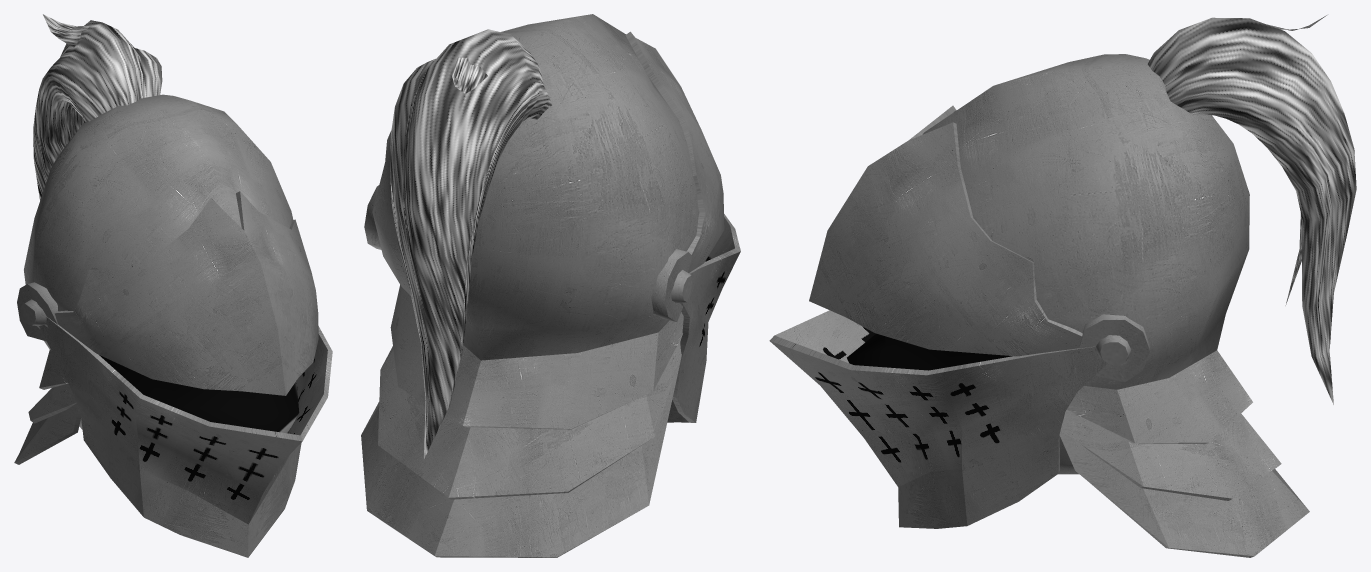
The model's file is kita_skoczka.glb.
The picture shows the model from 3 angles, left to right: view 1: azimuth 30°, elevation 25°; view 2: azimuth 150°, elevation 25°; view 3: azimuth 270°, elevation 25°; orthographic projection. The views are drawn at different scales.
Parts seen in each view (by area): view 1: base_head_helmet_aldebaran_0, face-shield-high_helmet_aldebaran_0, face-shield-low_helmet_aldebaran_0, plume_helmet_aldebaran_0, neck_guard_3_helmet_aldebaran_0, hinge_helmet_aldebaran_0, neck_guard_2_helmet_aldebaran_0, neck_guard_1_helmet_aldebaran_0; view 2: base_head_helmet_aldebaran_0, plume_helmet_aldebaran_0, neck_guard_3_helmet_aldebaran_0, neck_guard_2_helmet_aldebaran_0, neck_guard_1_helmet_aldebaran_0, face-shield-low_helmet_aldebaran_0, face-shield-high_helmet_aldebaran_0, hinge_helmet_aldebaran_0; view 3: base_head_helmet_aldebaran_0, face-shield-low_helmet_aldebaran_0, face-shield-high_helmet_aldebaran_0, plume_helmet_aldebaran_0, neck_guard_3_helmet_aldebaran_0, neck_guard_1_helmet_aldebaran_0, neck_guard_2_helmet_aldebaran_0, hinge_helmet_aldebaran_0.
Boxes of the visible parts, x1=… form: base_head_helmet_aldebaran_0: x1=24, y1=94, x2=299, y2=433; face-shield-high_helmet_aldebaran_0: x1=54, y1=191, x2=318, y2=395; face-shield-low_helmet_aldebaran_0: x1=39, y1=317, x2=332, y2=557; plume_helmet_aldebaran_0: x1=33, y1=14, x2=162, y2=200; neck_guard_3_helmet_aldebaran_0: x1=14, y1=403, x2=81, y2=464; hinge_helmet_aldebaran_0: x1=17, y1=282, x2=57, y2=341; neck_guard_2_helmet_aldebaran_0: x1=28, y1=383, x2=76, y2=423; neck_guard_1_helmet_aldebaran_0: x1=39, y1=350, x2=68, y2=389; base_head_helmet_aldebaran_0: x1=372, y1=14, x2=699, y2=360; plume_helmet_aldebaran_0: x1=390, y1=29, x2=551, y2=458; neck_guard_3_helmet_aldebaran_0: x1=361, y1=354, x2=681, y2=557; neck_guard_2_helmet_aldebaran_0: x1=378, y1=337, x2=681, y2=499; neck_guard_1_helmet_aldebaran_0: x1=390, y1=285, x2=683, y2=429; face-shield-low_helmet_aldebaran_0: x1=667, y1=214, x2=740, y2=422; face-shield-high_helmet_aldebaran_0: x1=625, y1=31, x2=724, y2=273; hinge_helmet_aldebaran_0: x1=364, y1=185, x2=692, y2=321; base_head_helmet_aldebaran_0: x1=847, y1=54, x2=1249, y2=474; face-shield-low_helmet_aldebaran_0: x1=769, y1=310, x2=1107, y2=528; face-shield-high_helmet_aldebaran_0: x1=809, y1=105, x2=1082, y2=356; plume_helmet_aldebaran_0: x1=1147, y1=15, x2=1356, y2=404; neck_guard_3_helmet_aldebaran_0: x1=1059, y1=430, x2=1309, y2=557; neck_guard_1_helmet_aldebaran_0: x1=1067, y1=350, x2=1252, y2=444; neck_guard_2_helmet_aldebaran_0: x1=1060, y1=410, x2=1281, y2=500; hinge_helmet_aldebaran_0: x1=1079, y1=314, x2=1149, y2=381.
Size of the model in its own units: 0.28 by 0.4347 by 0.4539.
1 material, 1 textured.
